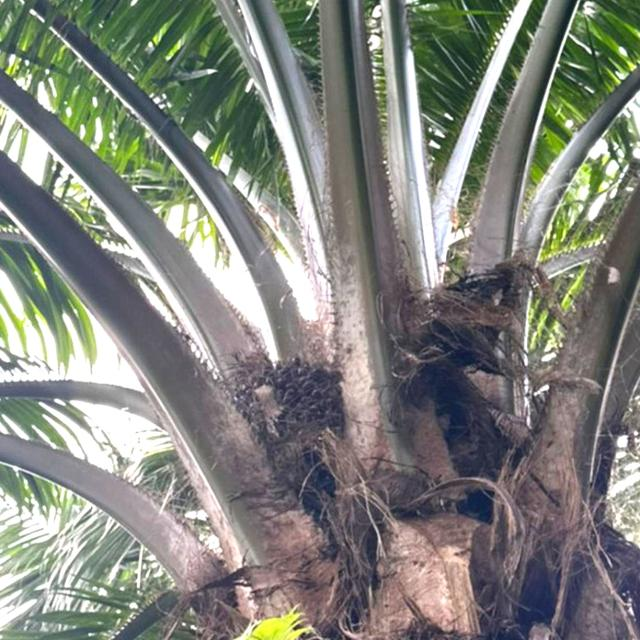ripe: (230, 353, 354, 445)
